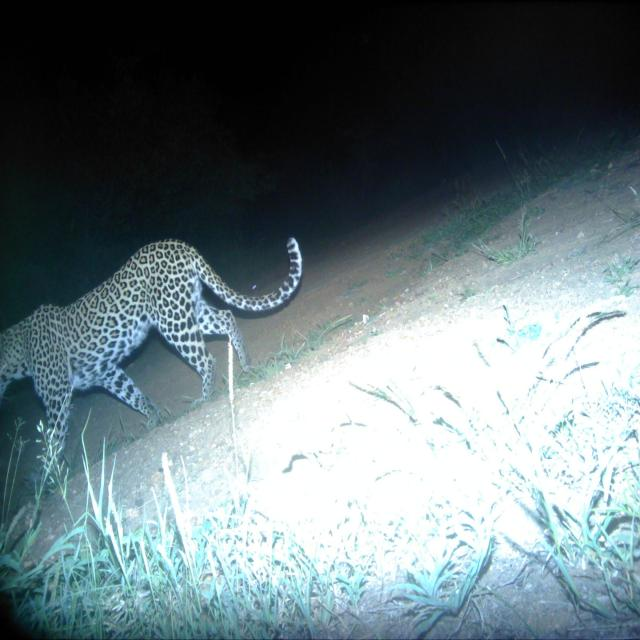Leopard: (5, 226, 312, 454)
